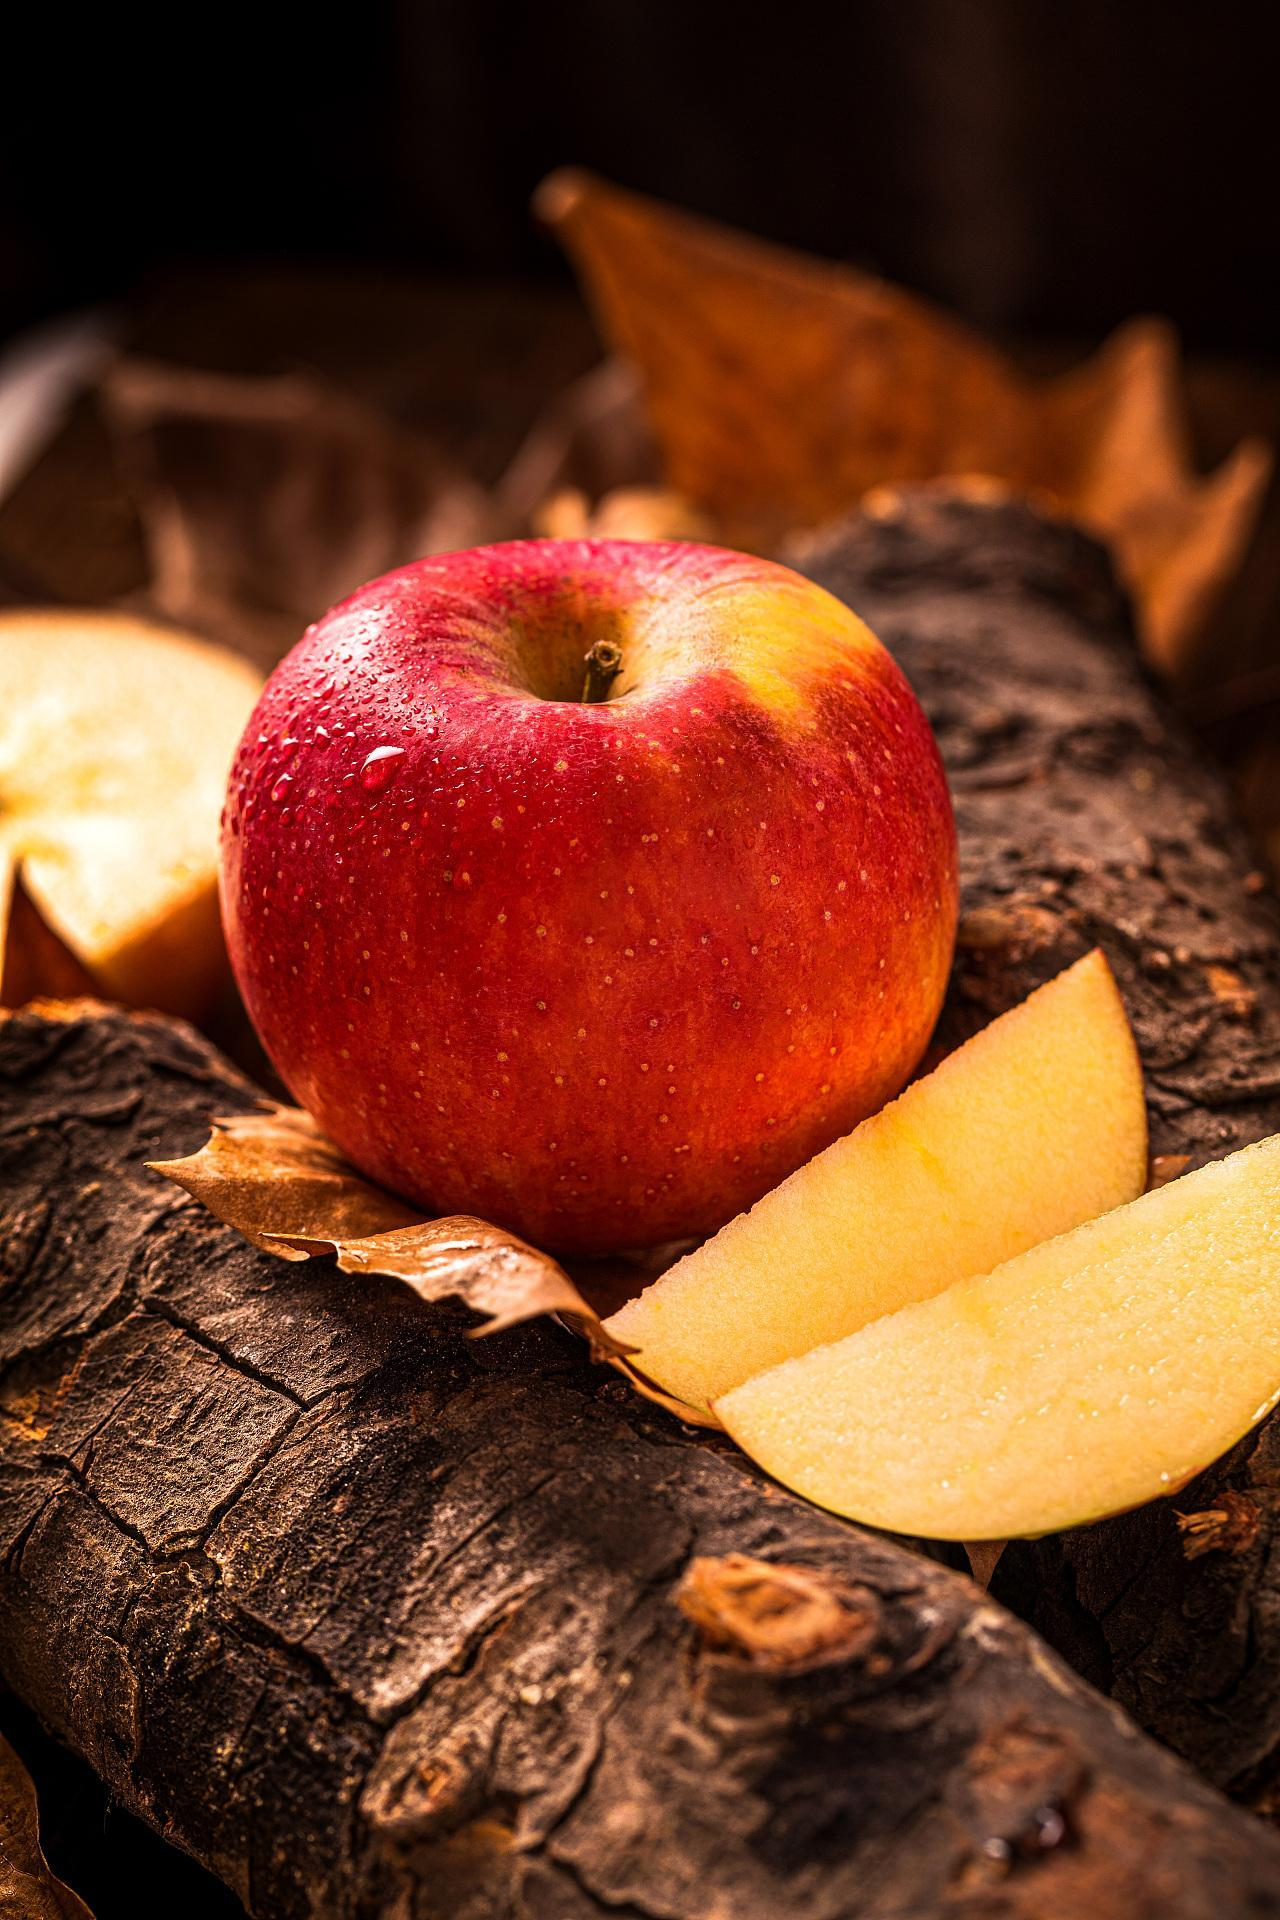apple: (211, 499, 966, 1234)
